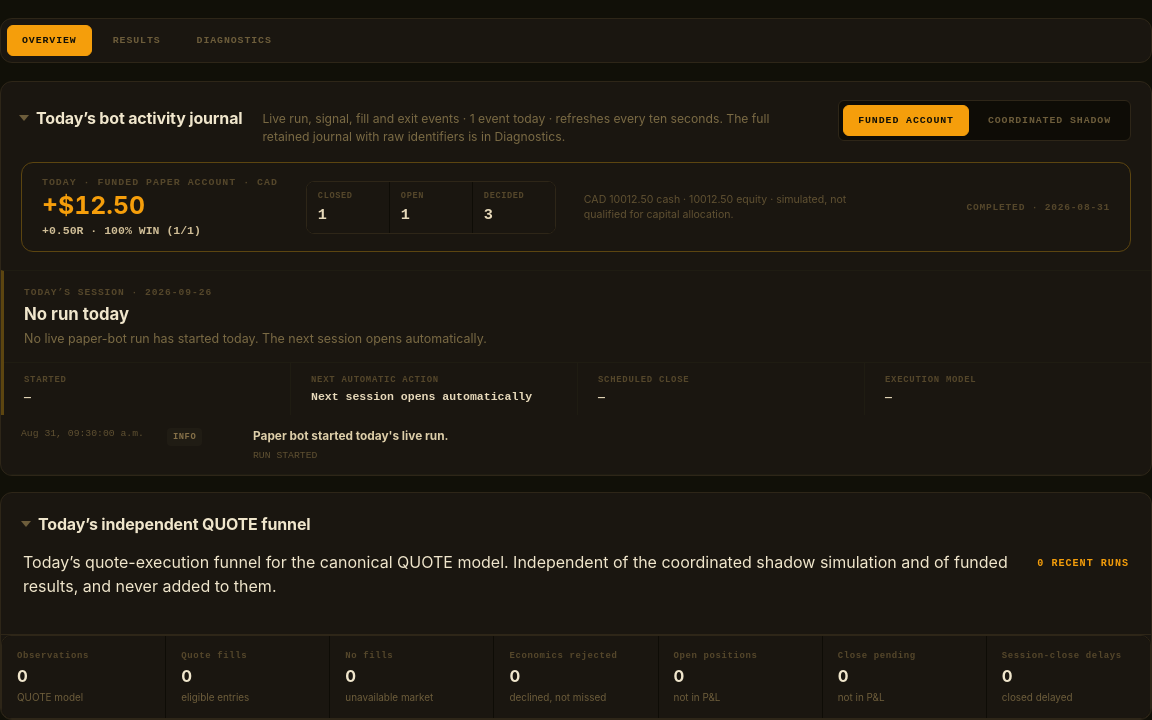
BOT evidence dashboard › leads the overview with today's funded account and switches to the shadow
Expected: the text "+$12.50" is shown, [42,190,145,220]
Expected: the element "Today’s bot activity journal" is shown, [0,81,1151,476]
Click the button "Coordinated shadow" at [1049, 120], box [973,105,1126,136]
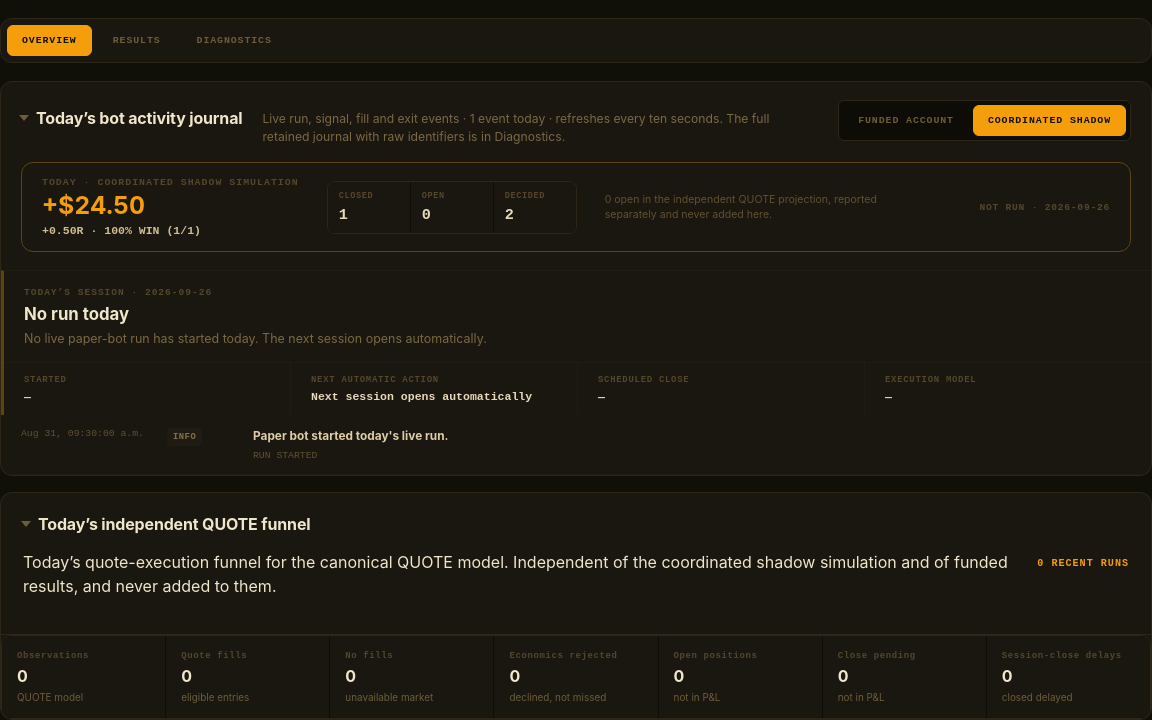
Result: the text "+$24.50" is shown at [42,190,145,220]
Result: the text "+$12.50" is gone
